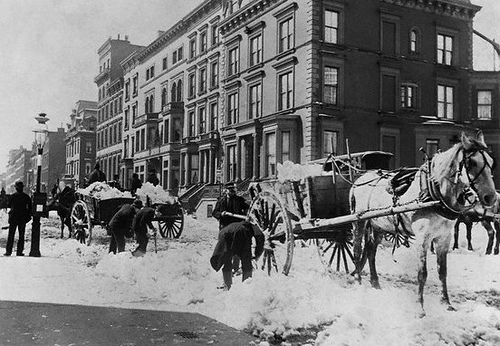horse: (347, 130, 499, 317)
